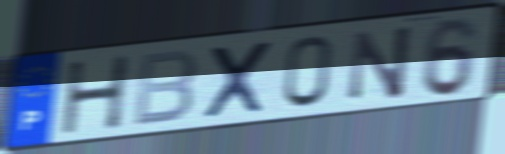0: (282, 34, 336, 111)
6: (418, 14, 482, 98)
B: (130, 47, 200, 129)
H: (59, 52, 133, 138)
N: (346, 22, 415, 103)
X: (200, 37, 275, 122)
